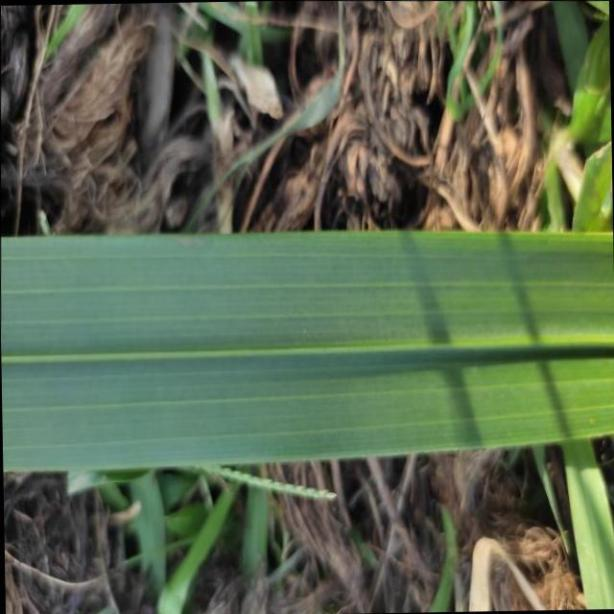Healthy: (3, 235, 614, 473)
